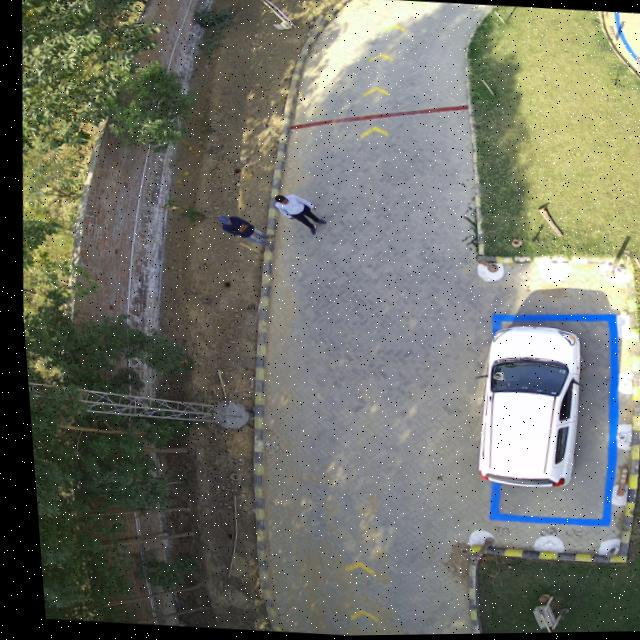car: (470, 325, 575, 488)
